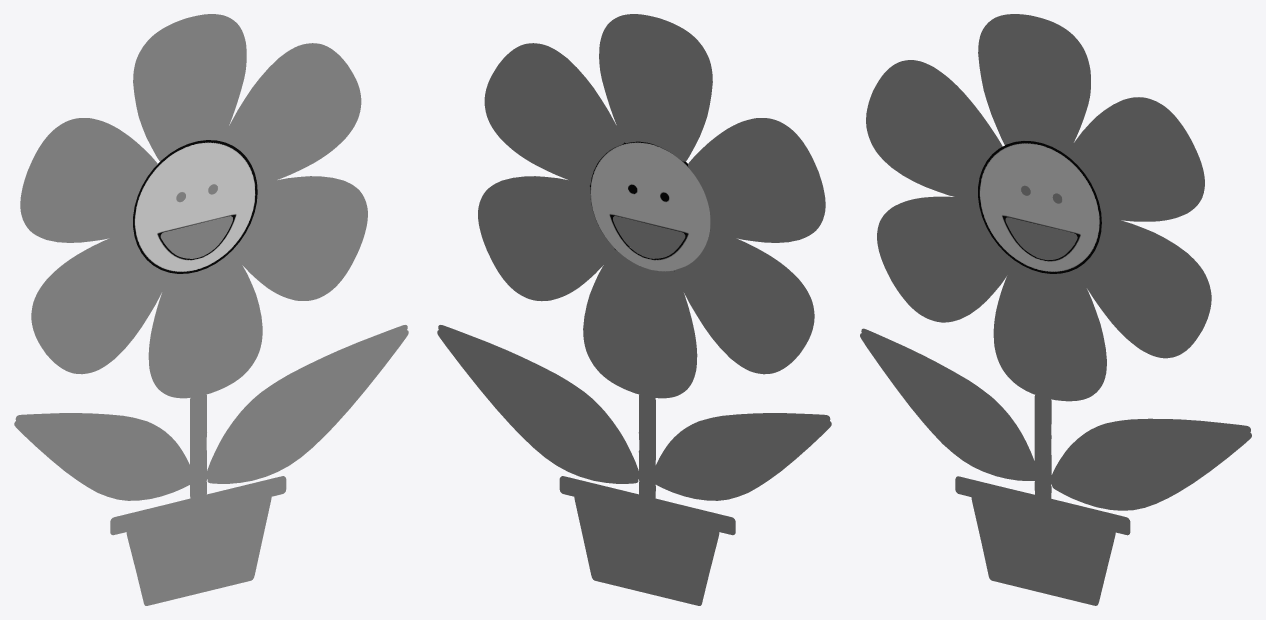
Rendered from IMG_6.fbx.
3 renders of one model, left to right at view 1: azimuth 30°, elevation 25°; view 2: azimuth 150°, elevation 25°; view 3: azimuth 330°, elevation 25°, orthographic.
Visible parts, largest first — view 1: IMG_6; view 2: IMG_6; view 3: IMG_6.
Boxes of the visible parts, bbox=[...] form: IMG_6: bbox=[14, 14, 408, 605]; IMG_6: bbox=[437, 14, 831, 605]; IMG_6: bbox=[860, 14, 1251, 605].
Bounding box in the file's own units: 13.19 × 18.49 × 0.00284.
13 materials, 1 textured.
